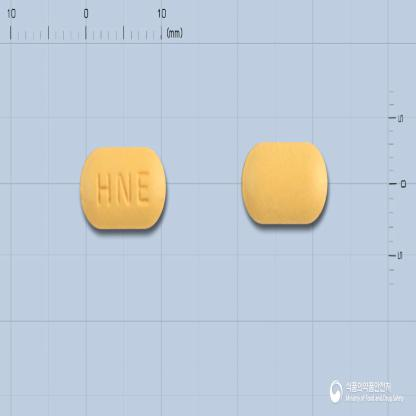pill: (78, 145, 168, 230), (240, 140, 328, 224)
